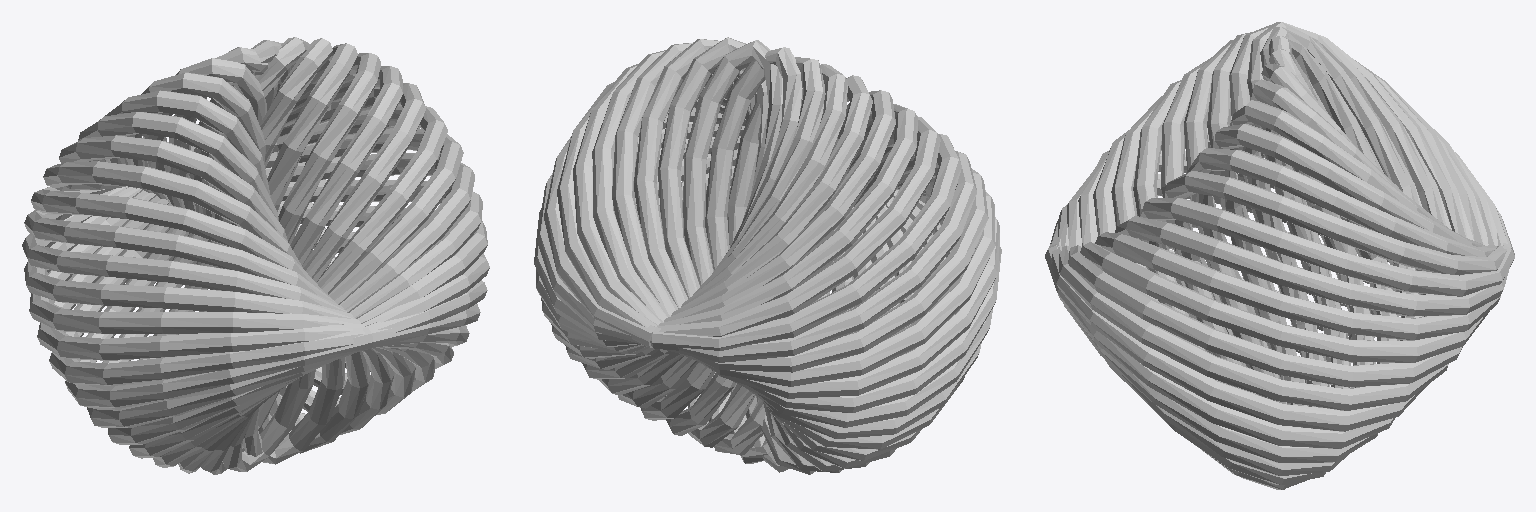
Rendered from UnityBasic.obj.
3 views of the same model, side by side, from view 1: azimuth 30°, elevation 25°; view 2: azimuth 150°, elevation 25°; view 3: azimuth 270°, elevation 25° (orthographic).
Parts seen in each view (by area): view 1: Sweep; view 2: Sweep; view 3: Sweep.
Part boxes in pixels (left/top/right/bottom): Sweep: left=22, top=37, right=489, bottom=474; Sweep: left=534, top=37, right=1001, bottom=474; Sweep: left=1045, top=22, right=1514, bottom=489.
Size of the model in its own units: 210 by 210 by 210.